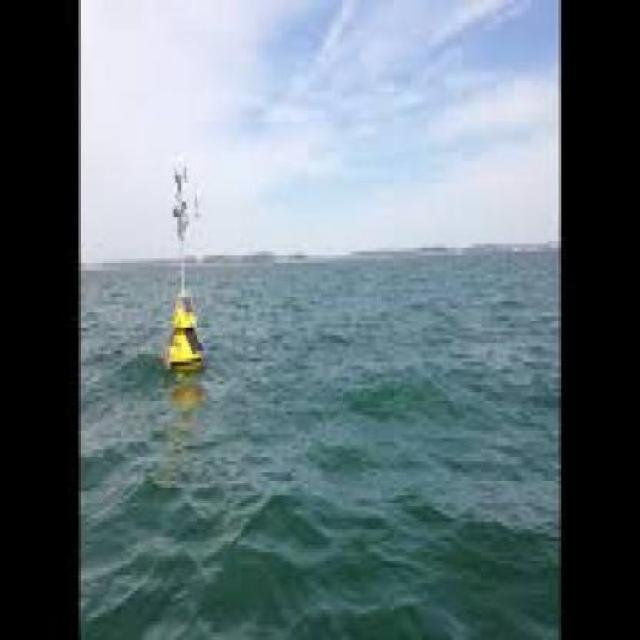buoy: (154, 153, 214, 386)
